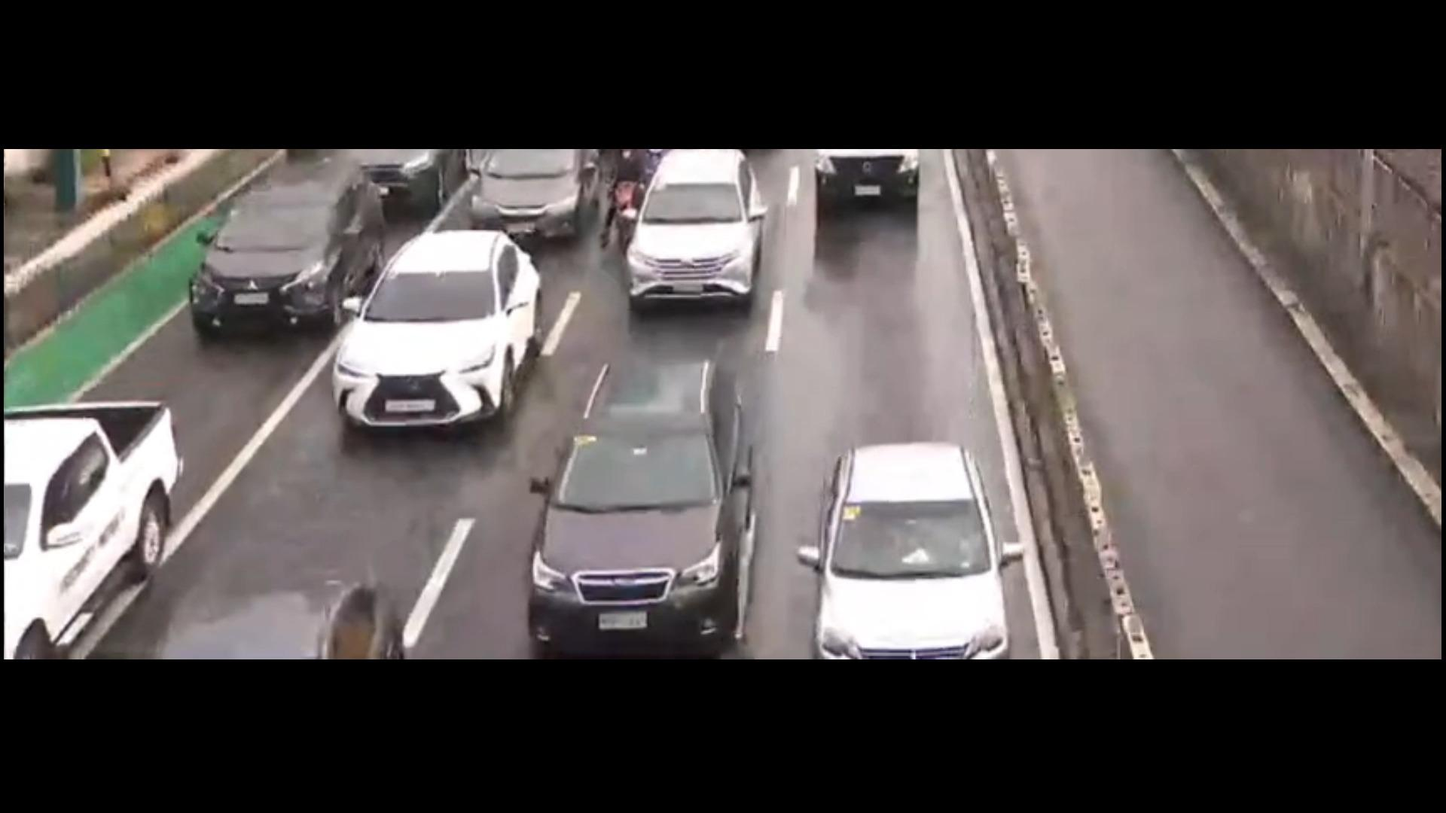Motorcycle: (606, 147, 649, 261)
Pickup: (0, 382, 206, 658)
SUV: (493, 326, 789, 647), (298, 216, 566, 454), (176, 158, 387, 347), (636, 147, 789, 317), (442, 153, 618, 235)
Sedan: (806, 429, 1039, 672)
